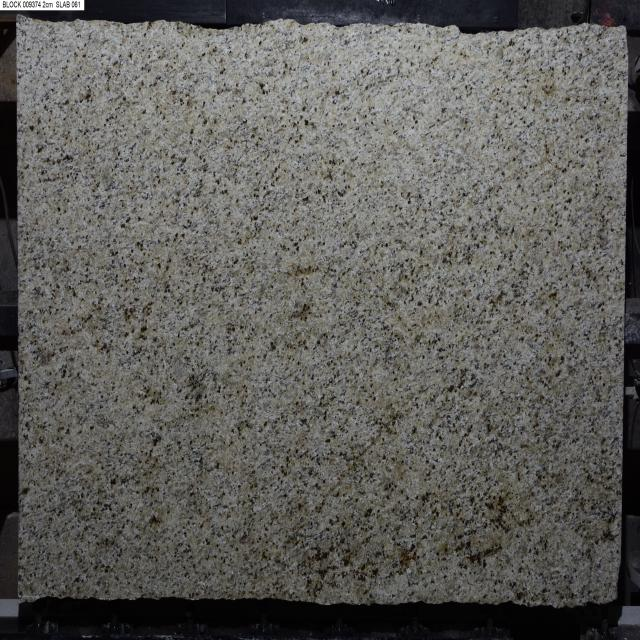chapa: (18, 17, 626, 606)
